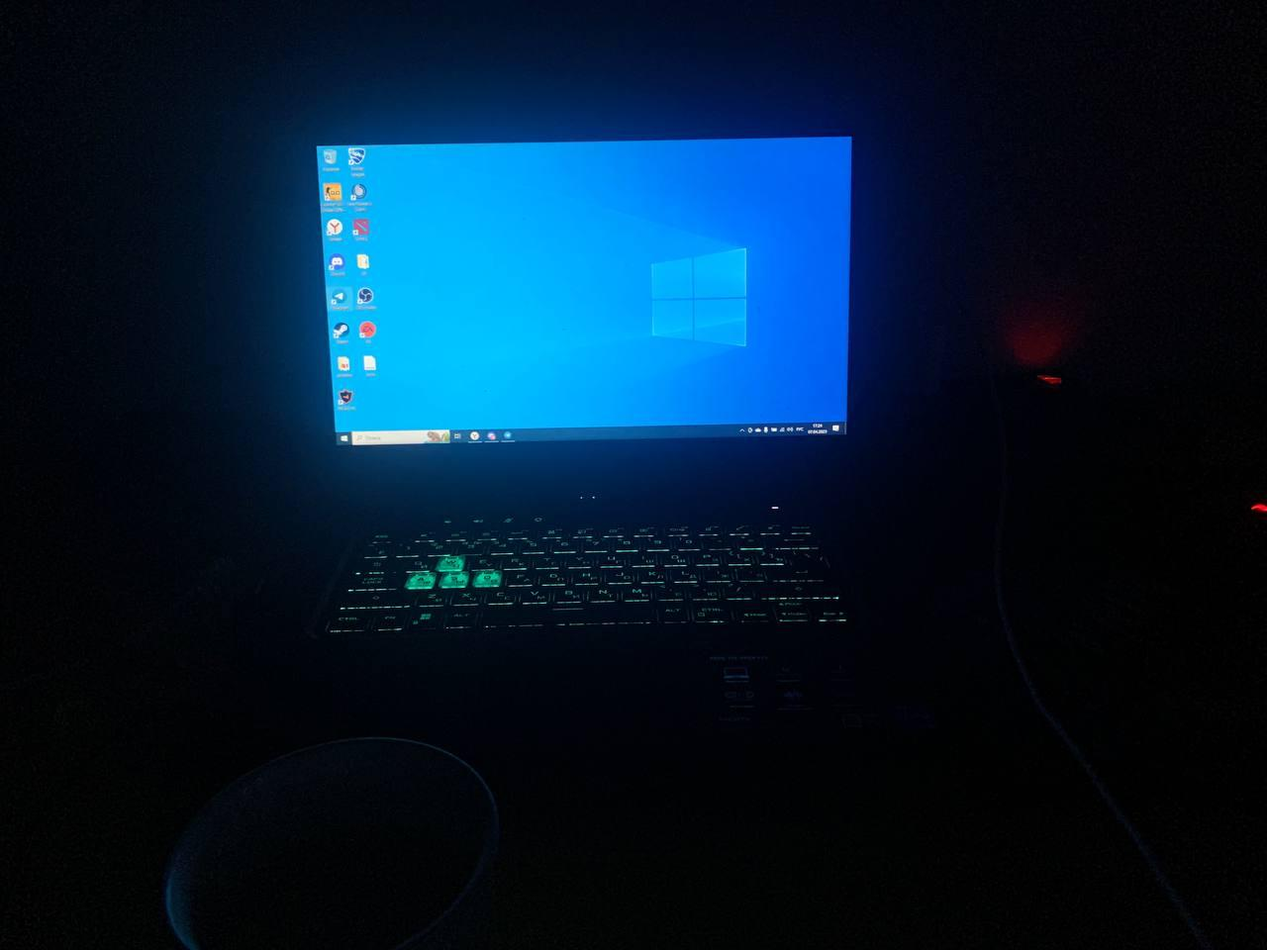monitor: (299, 123, 870, 479)
